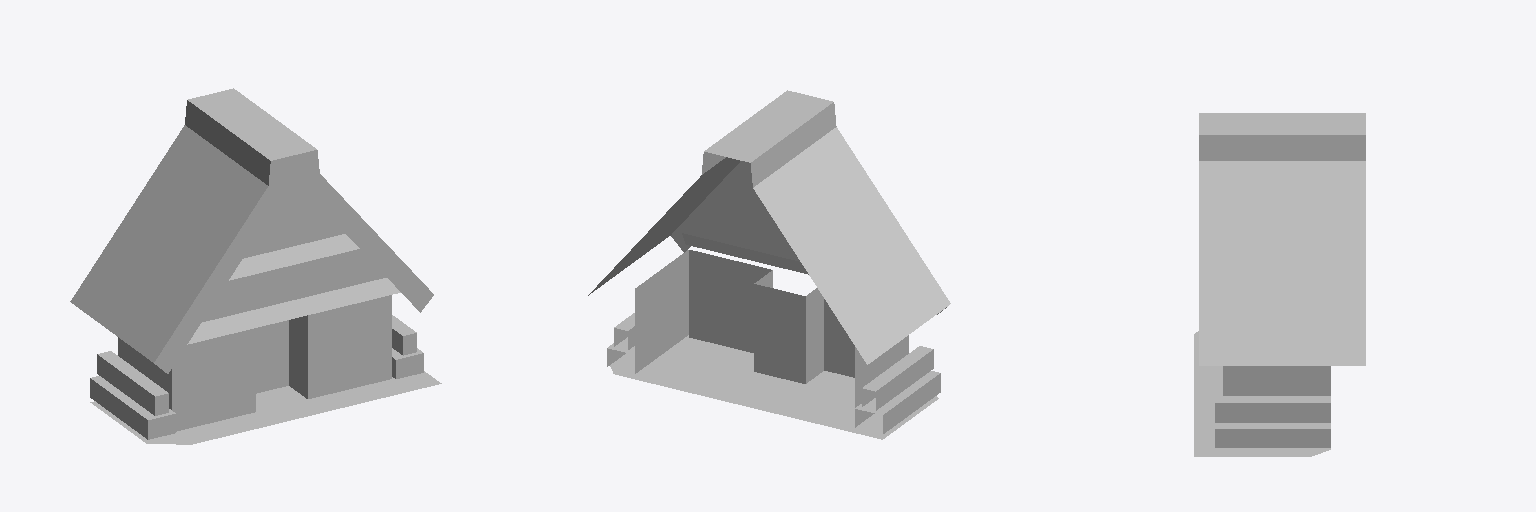
File: Cynthia's Family's House.obj
3 views of the same model, side by side, from view 1: azimuth 30°, elevation 25°; view 2: azimuth 150°, elevation 25°; view 3: azimuth 270°, elevation 25° (orthographic).
Parts seen in each view (by area): view 1: polygon2, polygon1; view 2: polygon2, polygon1, polygon0; view 3: polygon2, polygon1.
Boxes of the visible parts, x1,y1,x2,y2 form: polygon2: [70, 88, 433, 439]; polygon1: [90, 371, 441, 444]; polygon2: [588, 90, 950, 433]; polygon1: [610, 335, 938, 439]; polygon0: [706, 265, 854, 349]; polygon2: [1199, 113, 1365, 447]; polygon1: [1194, 331, 1330, 456].
Size of the model in its own units: 122 by 107 by 64.04.